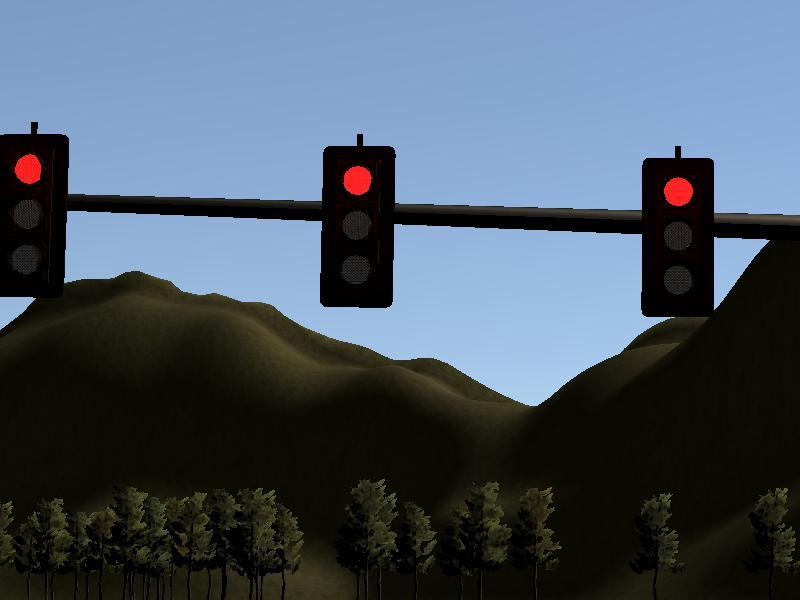Red: (319, 145, 394, 307), (639, 157, 714, 319), (1, 134, 68, 297)
